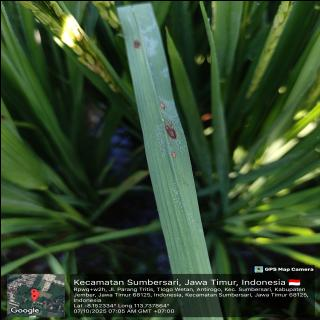Blast: (162, 118, 178, 142), (132, 39, 144, 49), (156, 100, 166, 110), (170, 151, 177, 159)
